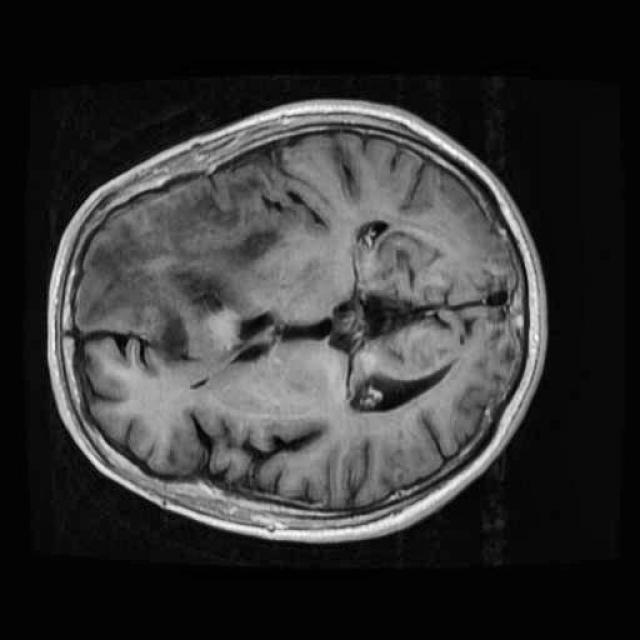Tumor: (71, 168, 295, 364)
